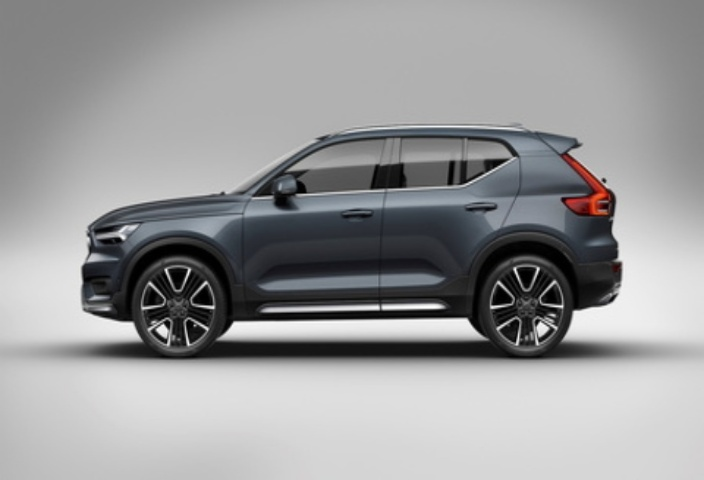camper: (39, 99, 642, 381)
